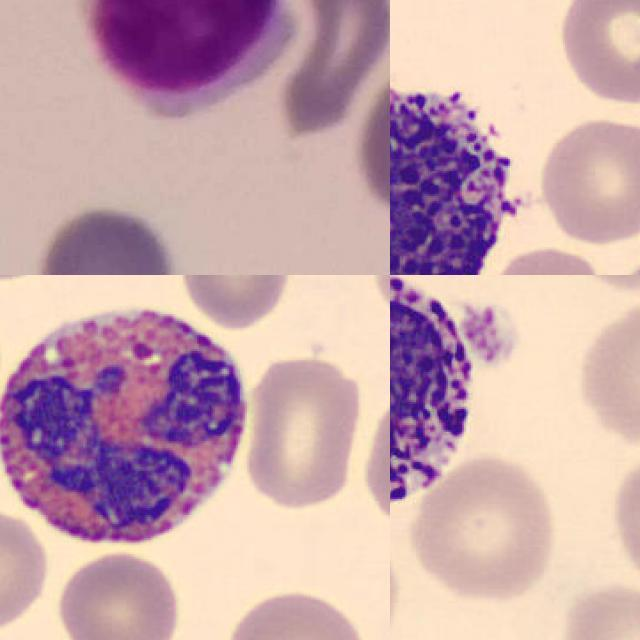Basophil: (390, 60, 541, 275), (390, 275, 479, 522)
Eosinophil: (0, 285, 261, 557)
Lymphocyte: (76, 0, 297, 126)
Platelets: (454, 298, 522, 366)
RBC: (405, 450, 562, 607), (238, 351, 368, 512), (532, 113, 640, 247), (51, 546, 184, 640), (568, 292, 640, 453), (554, 0, 640, 107), (220, 585, 373, 640), (0, 504, 51, 633), (174, 275, 291, 331), (357, 368, 390, 532), (606, 444, 640, 599), (556, 578, 640, 640), (477, 243, 611, 275)
